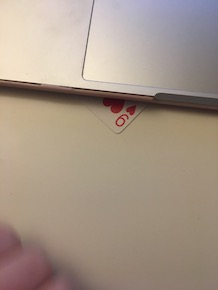NineOfHearts: (87, 95, 150, 134)
